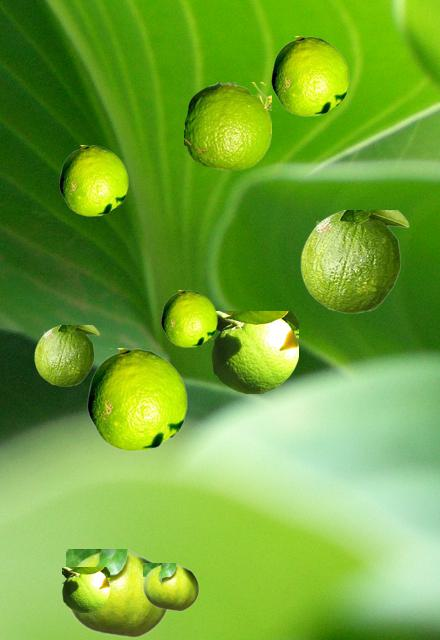dalandan: (300, 210, 408, 312), (87, 348, 186, 450), (66, 549, 167, 637), (184, 82, 270, 169), (211, 311, 297, 392), (271, 36, 348, 115), (59, 145, 127, 215), (34, 325, 98, 385), (161, 290, 216, 346), (143, 563, 198, 610), (62, 567, 108, 611)
